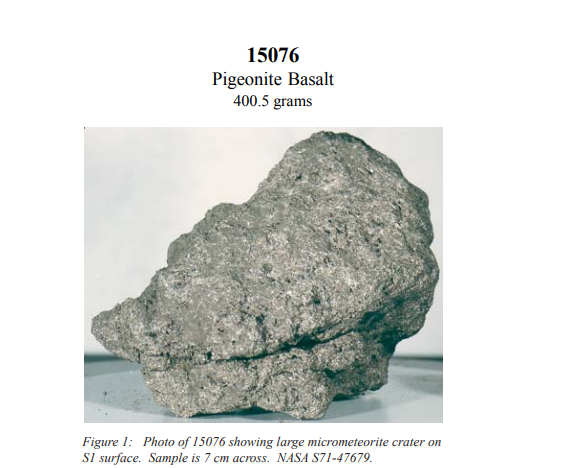Basalt: (81, 127, 442, 425)
